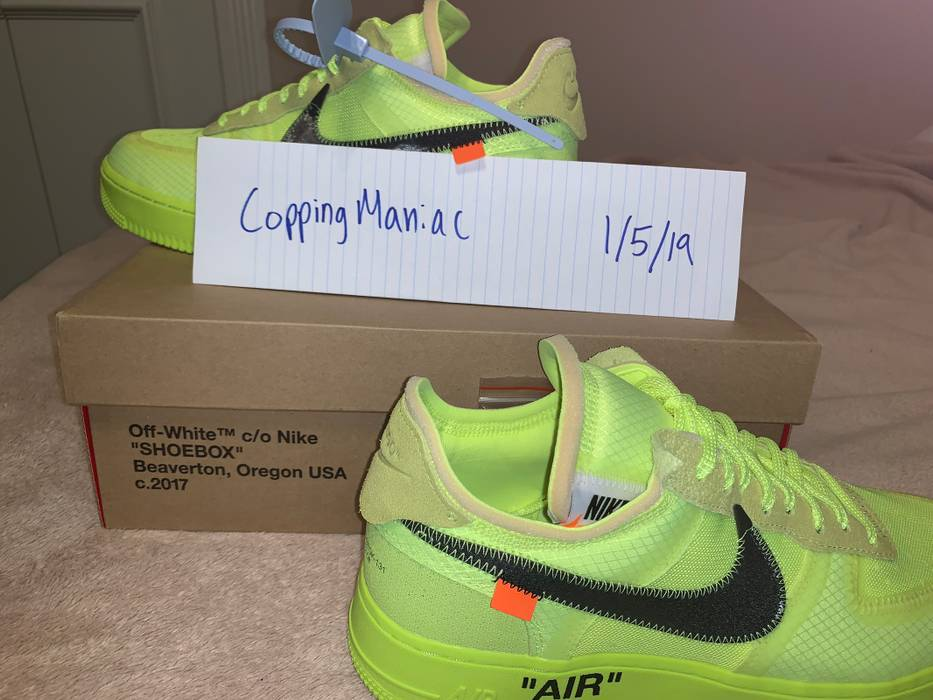Air Force One Volt: (342, 332, 919, 700), (83, 1, 606, 268)
